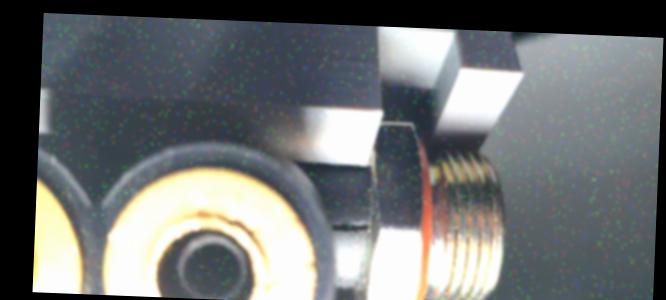craze: (327, 218, 372, 236)
